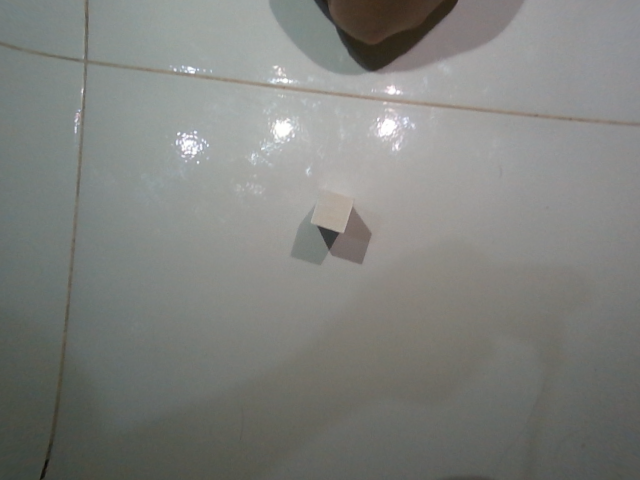Balok-Putih: (305, 183, 356, 238)
